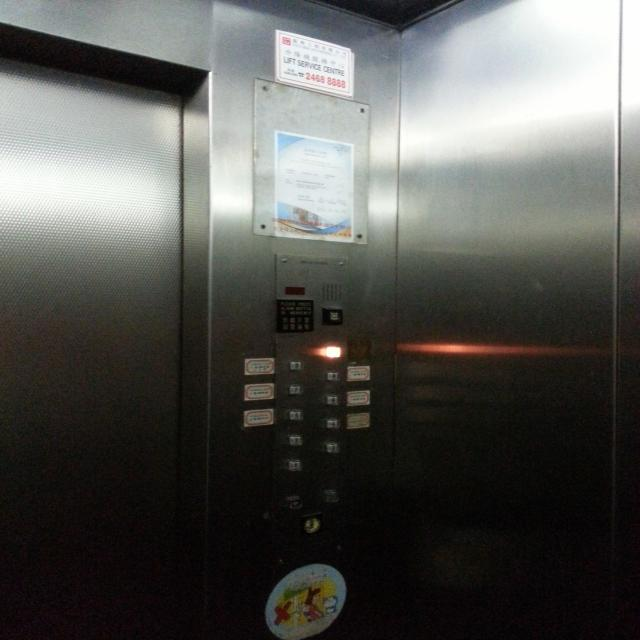1: (288, 459, 302, 472)
2: (325, 442, 339, 453)
3: (288, 435, 302, 446)
4: (326, 418, 338, 428)
5: (289, 410, 302, 420)
6: (326, 395, 338, 405)
7: (289, 384, 301, 394)
8: (326, 371, 339, 382)
9: (290, 361, 302, 371)
alarm: (328, 312, 339, 321)
blur: (301, 513, 323, 536), (323, 490, 338, 502)
empty: (325, 345, 342, 358)
open: (287, 496, 302, 509)
